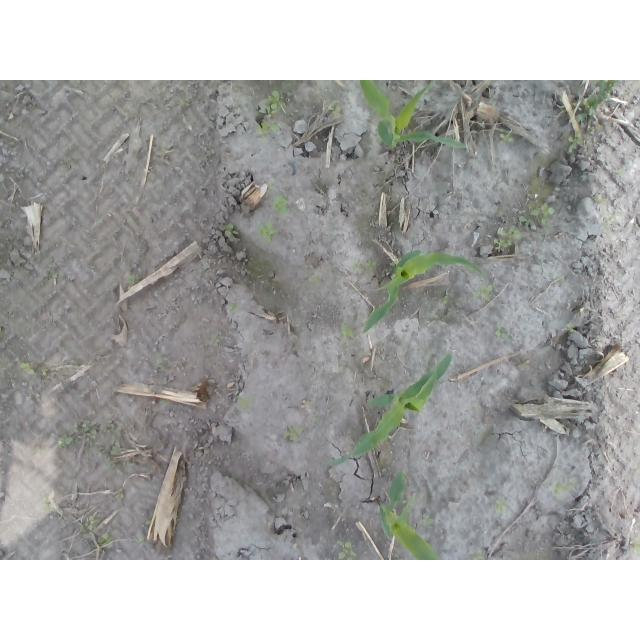Maize: (324, 352, 453, 468), (361, 249, 485, 335), (359, 81, 469, 151), (378, 470, 443, 560)
Weeds: (566, 81, 621, 152), (59, 422, 120, 474), (257, 90, 283, 134), (83, 515, 115, 550), (517, 203, 556, 226), (495, 228, 522, 254), (549, 475, 580, 497), (604, 212, 625, 236), (19, 363, 47, 378), (260, 223, 280, 244), (337, 541, 358, 559), (473, 285, 495, 302), (272, 196, 290, 216), (283, 426, 305, 442), (352, 258, 376, 270), (49, 259, 59, 286), (339, 322, 354, 339), (237, 397, 255, 411), (225, 222, 240, 238), (440, 287, 453, 305), (494, 500, 508, 516), (494, 327, 510, 341), (154, 356, 168, 372), (421, 511, 435, 525), (631, 536, 640, 556), (500, 132, 514, 144), (327, 105, 341, 116), (41, 497, 52, 511), (594, 194, 610, 203), (230, 304, 241, 316), (129, 273, 139, 286), (474, 552, 487, 560), (565, 324, 575, 333), (36, 444, 45, 454), (126, 461, 135, 468)
